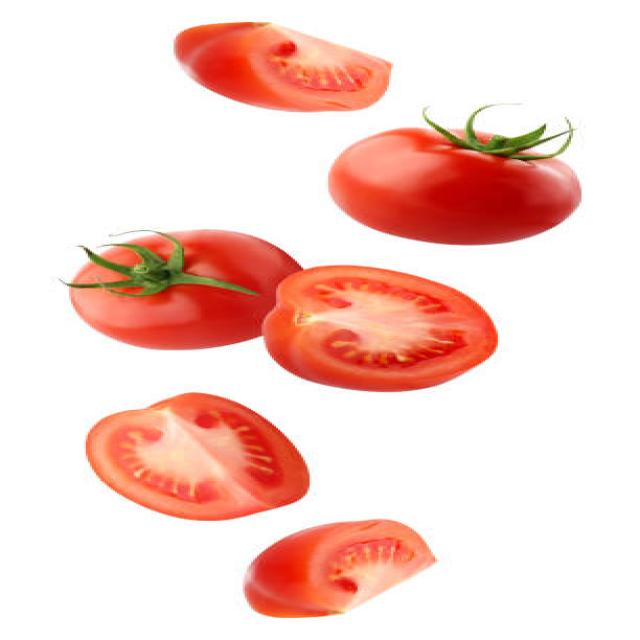Tomato: (79, 387, 344, 548), (208, 502, 492, 635), (252, 258, 510, 402), (158, 17, 416, 117)
